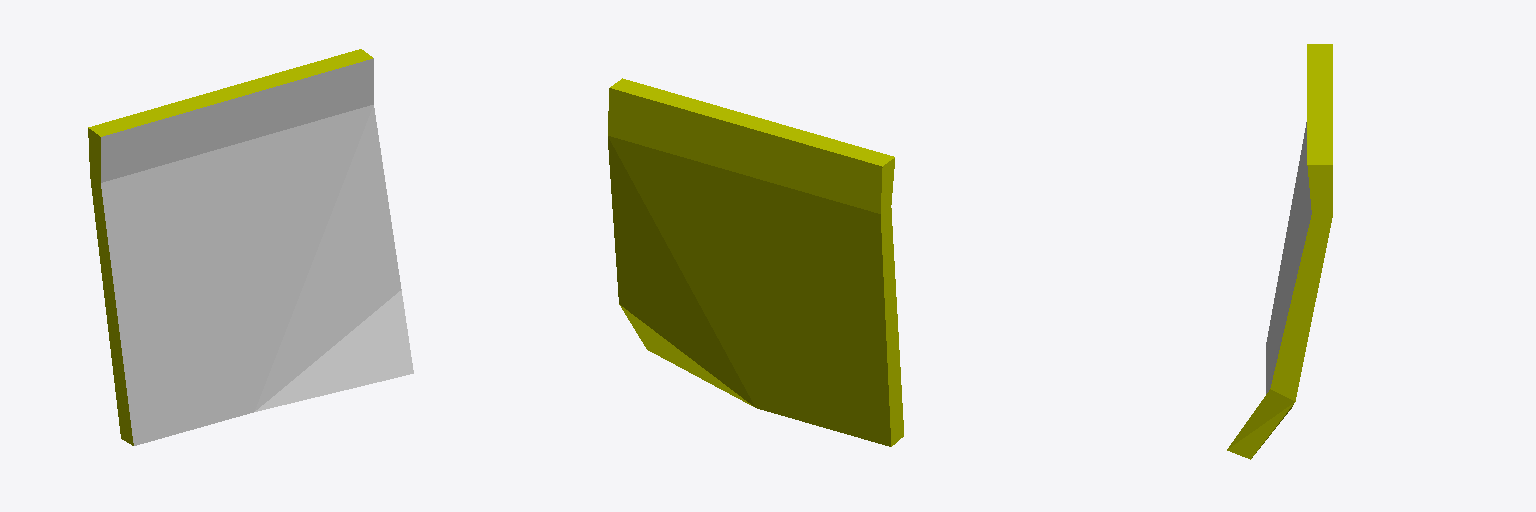
The model's file is post-it_taches.02.obj.
3 views of the same model, side by side, from view 1: azimuth 30°, elevation 25°; view 2: azimuth 150°, elevation 25°; view 3: azimuth 270°, elevation 25° (orthographic).
Parts seen in each view (by area): view 1: post-it_taches.02; view 2: post-it_taches.02; view 3: post-it_taches.02.
Boxes of the visible parts, box(x1,y1,x2,y2) form: post-it_taches.02: box(88, 49, 413, 445); post-it_taches.02: box(608, 78, 903, 446); post-it_taches.02: box(1227, 44, 1332, 459).
Bounding box in the file's own units: 0.1483 × 0.156 × 0.0485.